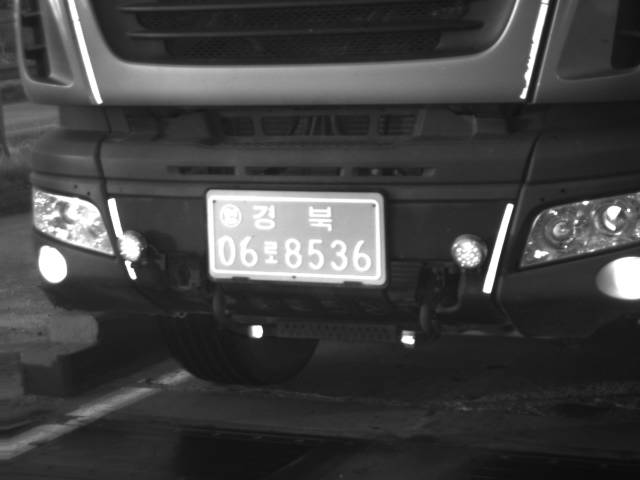car: (10, 1, 638, 386)
plate: (205, 190, 385, 284)
